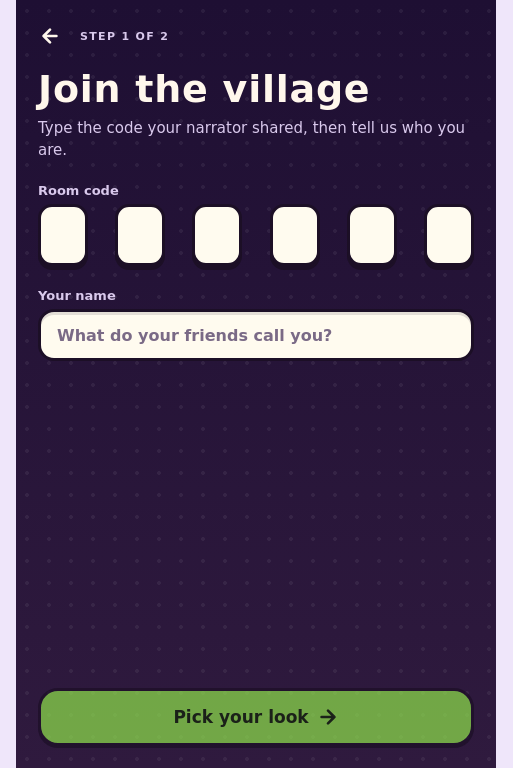
Test: JoinView › explains when the code finds no room
Type "zzzzzz" into the field named "Code letter 1".
click(63, 235); type("zzzzzz")  # box 38,204 -> 88,266
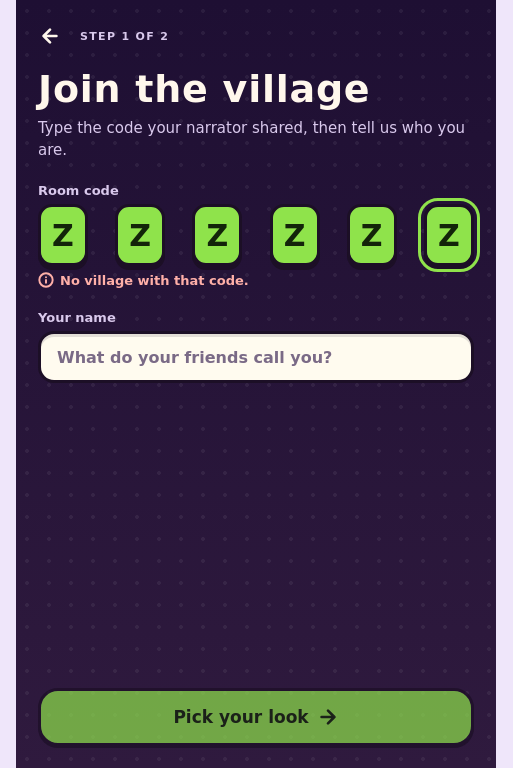
Check: the submit button is disabled, box 38,688 -> 474,746
Check: the text "No village with that code." is shown, box 38,272 -> 249,288
